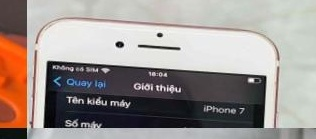scratch: (35, 18, 68, 37)
